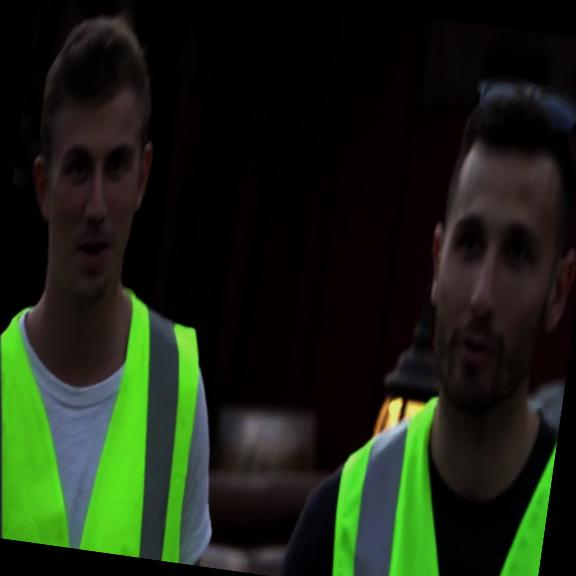safety_vest: (0, 269, 224, 564), (324, 380, 562, 576)
